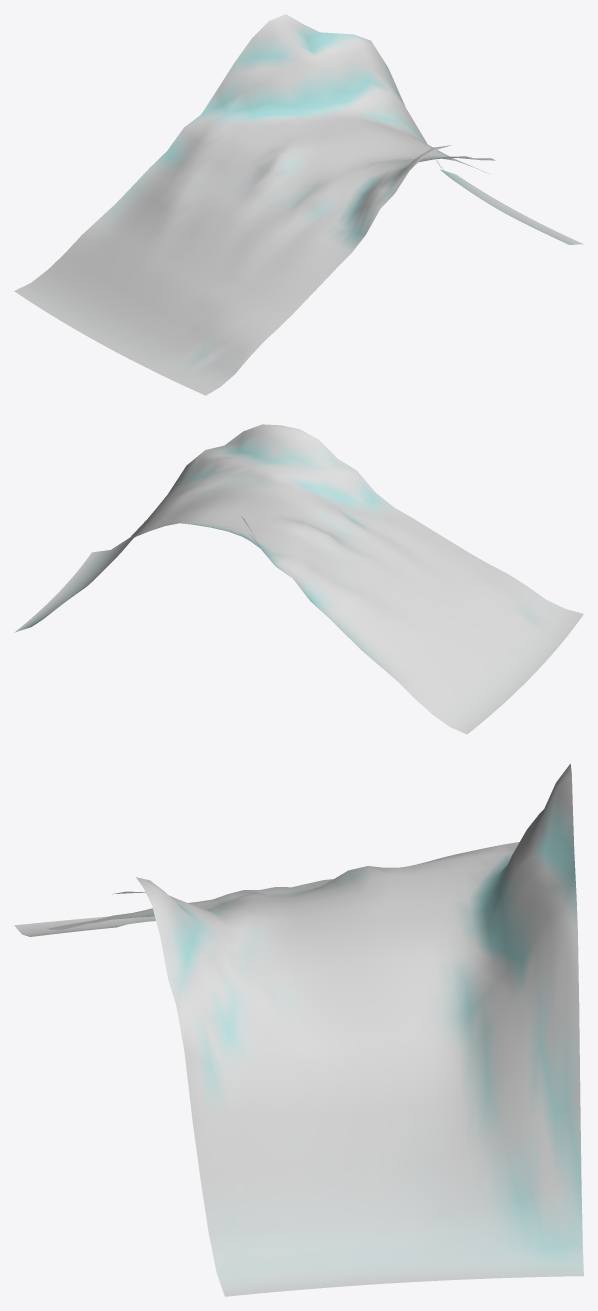
Rendered from near_1.glb.
3 renders of one model, top to bottom at view 1: azimuth 30°, elevation 25°; view 2: azimuth 150°, elevation 25°; view 3: azimuth 270°, elevation 25°, orthographic. The views are drawn at different scales.
Parts seen in each view (by area): view 1: Mountain; view 2: Mountain; view 3: Mountain.
Part boxes in pixels (left/top/right/bottom): Mountain: left=14, top=14, right=583, bottom=395; Mountain: left=14, top=424, right=583, bottom=734; Mountain: left=14, top=763, right=583, bottom=1296.
Bounding box in the file's own units: 369 × 152 × 221.
